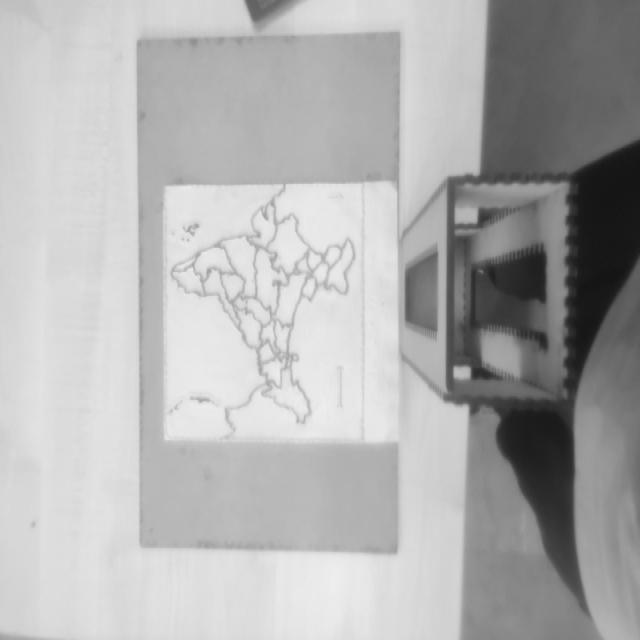map: (164, 182, 364, 441)
